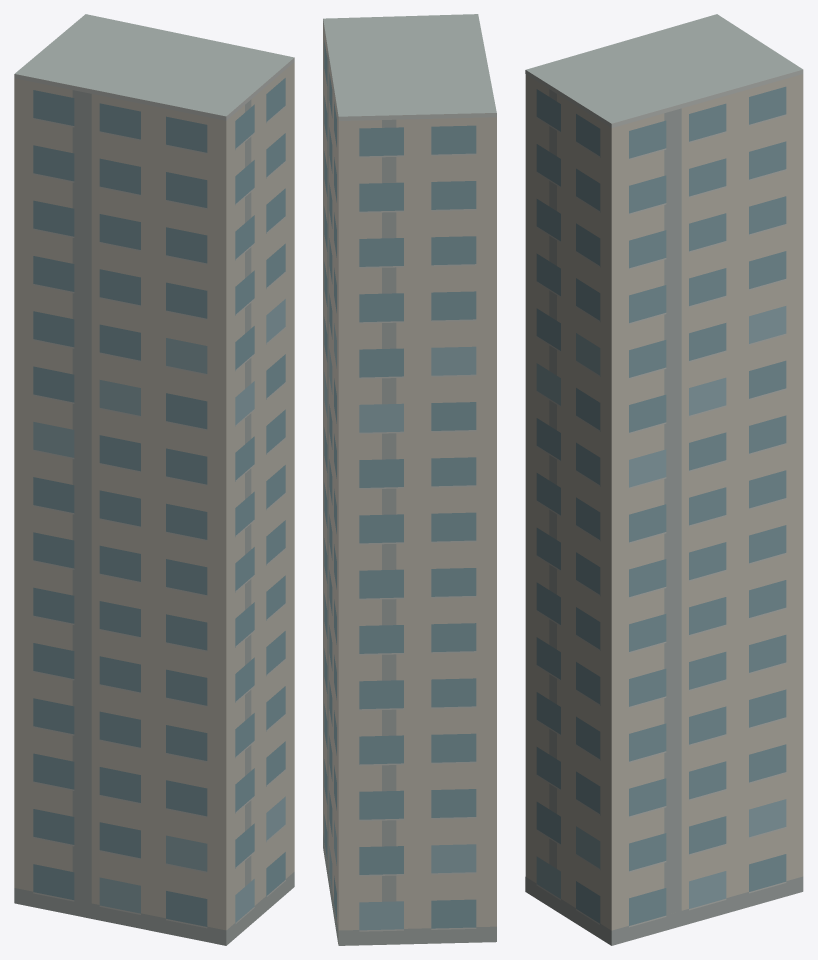
The model's file is survey-upis-32697287.glb.
3 renders of one model, left to right at view 1: azimuth 30°, elevation 25°; view 2: azimuth 150°, elevation 25°; view 3: azimuth 270°, elevation 25°, orthographic.
Parts seen in each view (by area): view 1: survey-upis-32697287.tmp; view 2: survey-upis-32697287.tmp; view 3: survey-upis-32697287.tmp.
Boxes of the visible parts, bbox=[...] form: survey-upis-32697287.tmp: bbox=[14, 14, 294, 945]; survey-upis-32697287.tmp: bbox=[323, 14, 496, 945]; survey-upis-32697287.tmp: bbox=[525, 14, 803, 945].
Bounding box in the file's own units: 13.11 × 45.75 × 14.02.
